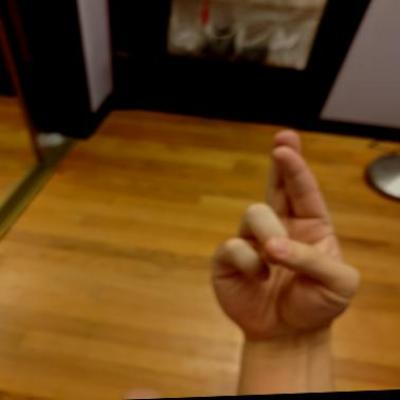hand: (202, 124, 370, 342)
